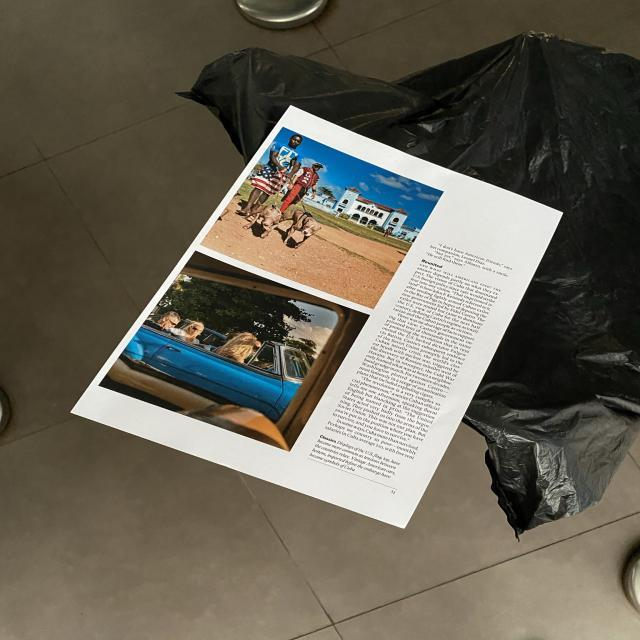document: (73, 108, 562, 526)
